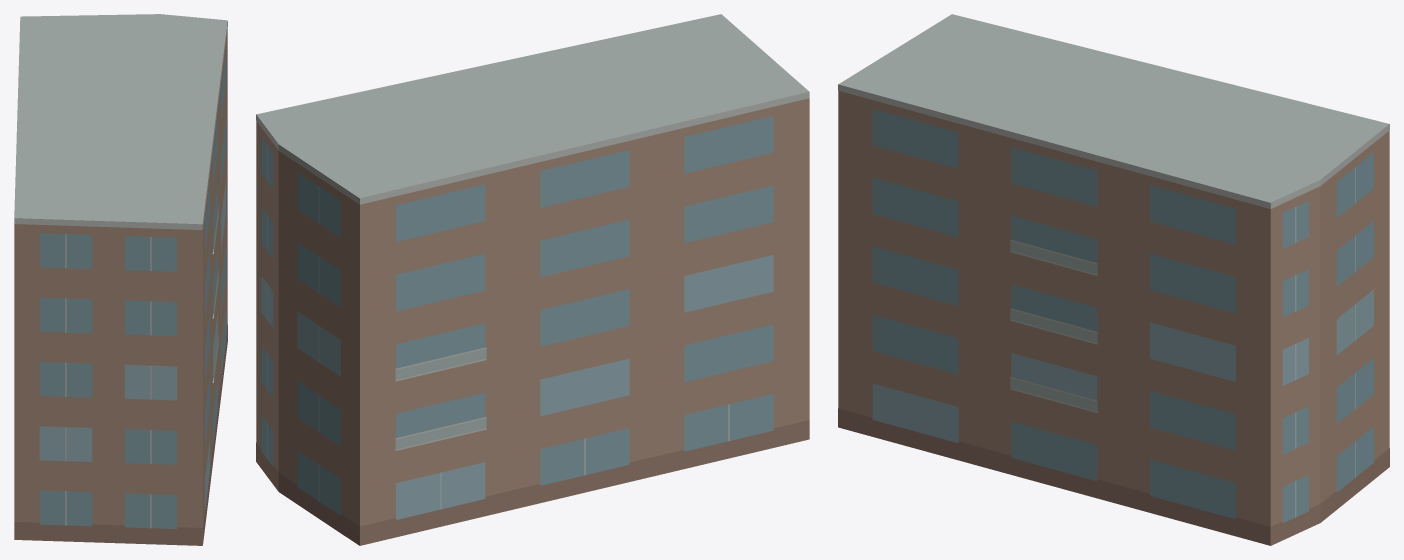
Rendered from survey-upis-32689818.glb.
The picture shows the model from 3 angles, left to right: view 1: azimuth 30°, elevation 25°; view 2: azimuth 150°, elevation 25°; view 3: azimuth 270°, elevation 25°; orthographic projection. The views are drawn at different scales.
Parts seen in each view (by area): view 1: survey-upis-32689818.tmp; view 2: survey-upis-32689818.tmp; view 3: survey-upis-32689818.tmp.
Boxes of the visible parts, left/top/right/bottom form: survey-upis-32689818.tmp: left=14, top=14, right=227, bottom=545; survey-upis-32689818.tmp: left=256, top=14, right=809, bottom=545; survey-upis-32689818.tmp: left=838, top=14, right=1389, bottom=545.
Bounding box in the file's own units: 15.83 × 13.4 × 19.54.
